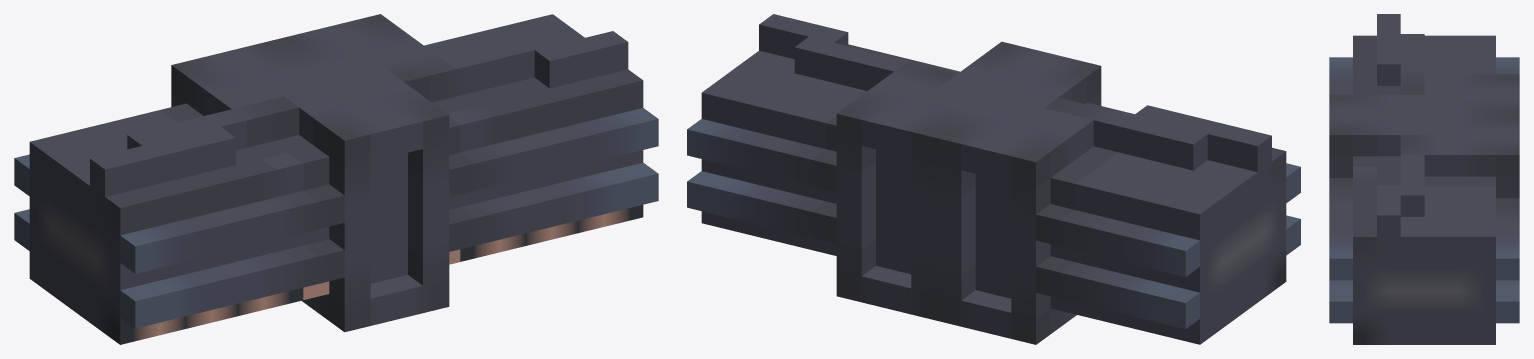
Rendered from Gate_Mid.fbx.
The picture shows the model from 3 angles, left to right: view 1: azimuth 30°, elevation 25°; view 2: azimuth 150°, elevation 25°; view 3: azimuth 270°, elevation 25°; orthographic projection. The views are drawn at different scales.
Visible parts, largest first — view 1: Gate_Mid; view 2: Gate_Mid; view 3: Gate_Mid.
Boxes of the visible parts, left/top/right/bottom form: Gate_Mid: left=14, top=14, right=658, bottom=344; Gate_Mid: left=687, top=14, right=1300, bottom=344; Gate_Mid: left=1329, top=14, right=1519, bottom=344.
Bounding box in the file's own units: 200 × 70 × 80.
1 material, 1 textured.
